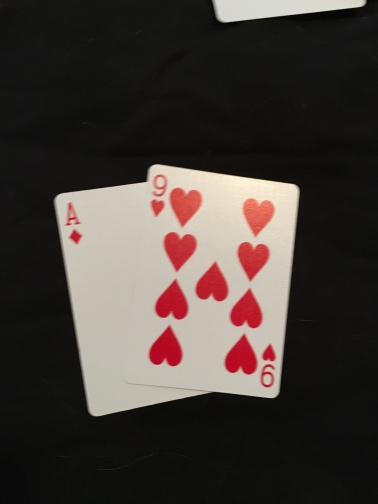ace: (54, 183, 146, 410)
nine: (123, 162, 300, 400)
